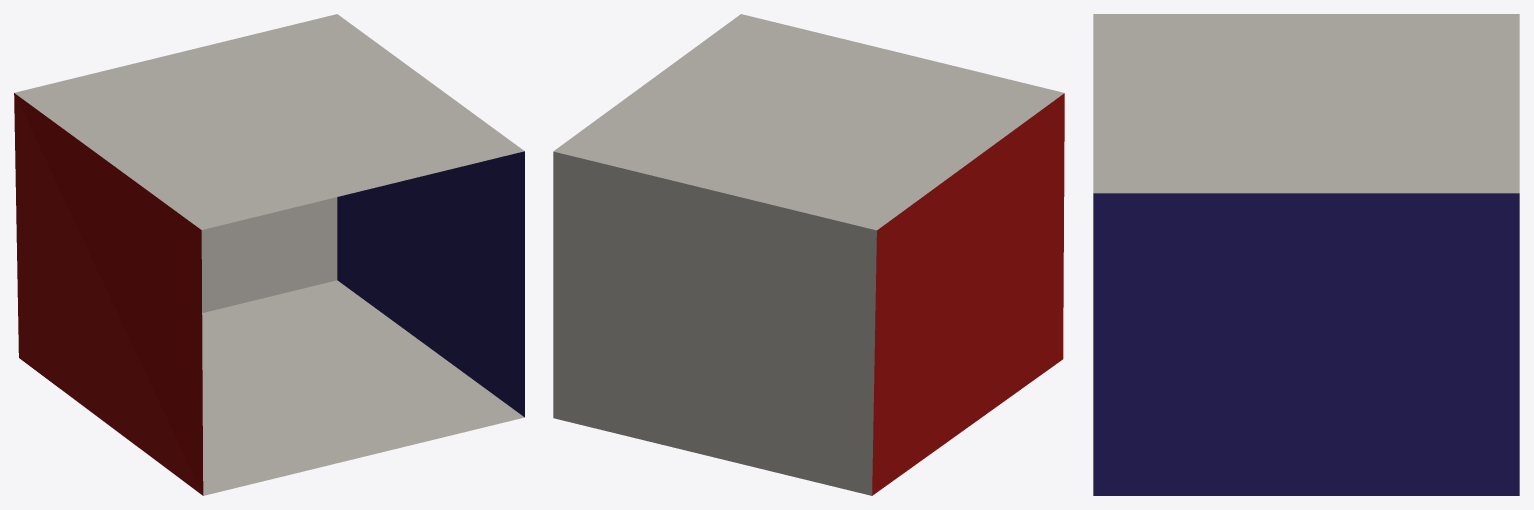
Rendered from CornellBox-Empty-Squashed.obj.
The picture shows the model from 3 angles, left to right: view 1: azimuth 30°, elevation 25°; view 2: azimuth 150°, elevation 25°; view 3: azimuth 270°, elevation 25°; orthographic projection. The views are drawn at different scales.
Parts seen in each view (by area): view 1: ceiling, leftWall, floor, rightWall, backWall; view 2: backWall, ceiling, leftWall; view 3: rightWall, ceiling.
Boxes of the visible parts, x1,y1,x2,y2 form: ceiling: (14, 14, 524, 229); leftWall: (14, 93, 203, 495); floor: (202, 280, 524, 495); rightWall: (337, 151, 524, 417); backWall: (201, 197, 337, 312); backWall: (553, 151, 876, 495); ceiling: (553, 14, 1064, 230); leftWall: (872, 93, 1064, 495); rightWall: (1093, 193, 1519, 495); ceiling: (1093, 14, 1519, 193).
Size of the model in its own units: 2.02 by 1.59 by 2.03.
